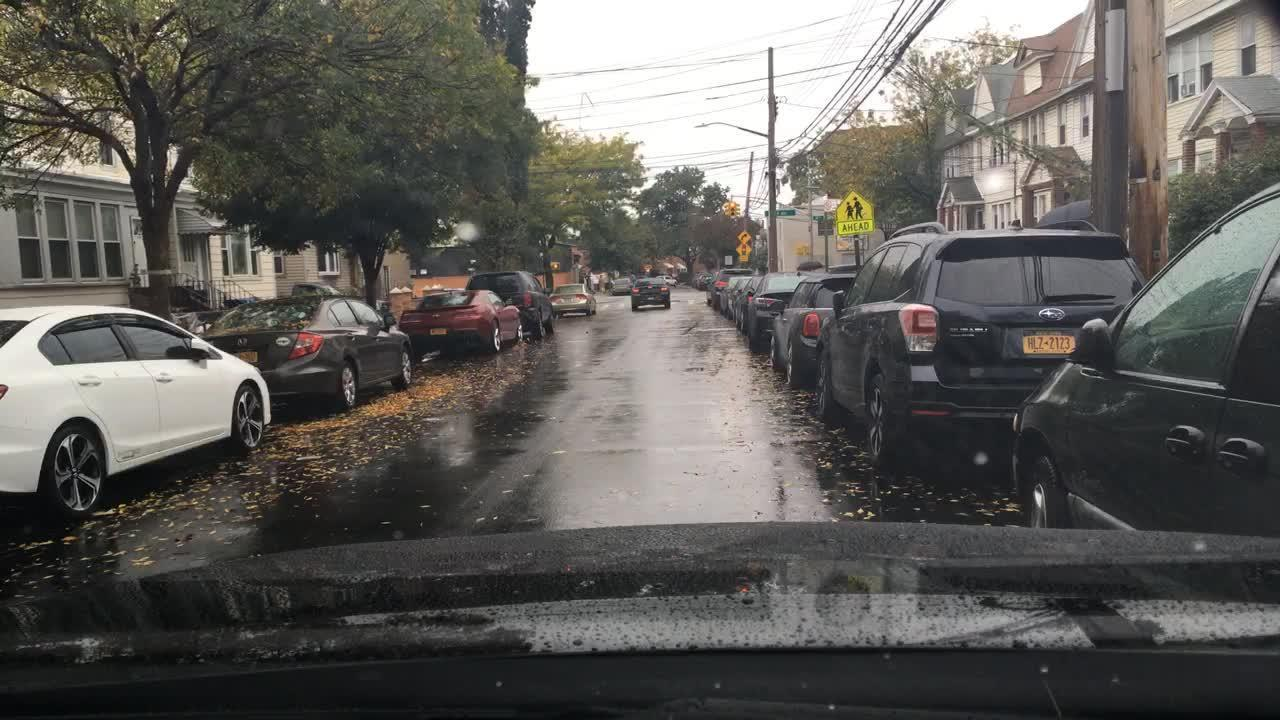subaru: (1035, 303, 1068, 326)
